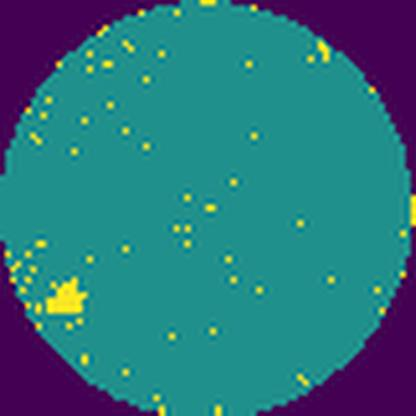Loc: (48, 277, 88, 317)
